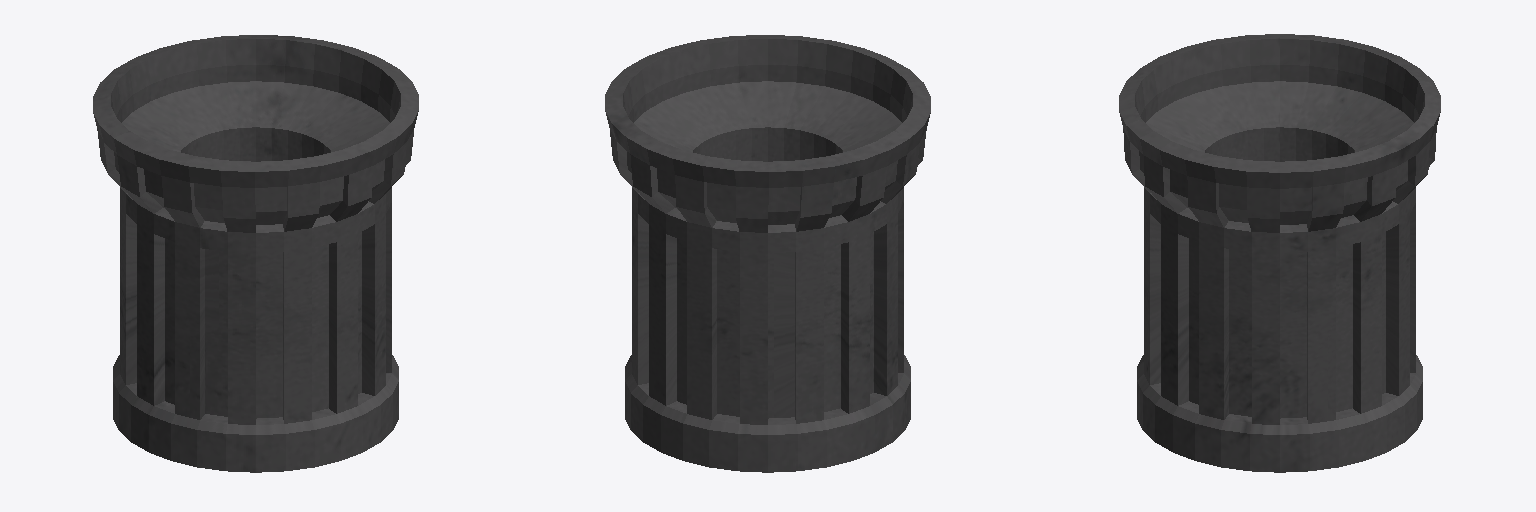
3 renders of one model, left to right at view 1: azimuth 30°, elevation 25°; view 2: azimuth 150°, elevation 25°; view 3: azimuth 270°, elevation 25°, orthographic.
Parts seen in each view (by area): view 1: lixeira_pCylinder1; view 2: lixeira_pCylinder1; view 3: lixeira_pCylinder1.
Part boxes in pixels (bbox=[...]): lixeira_pCylinder1: bbox=[93, 35, 418, 472]; lixeira_pCylinder1: bbox=[605, 35, 930, 472]; lixeira_pCylinder1: bbox=[1119, 34, 1440, 472].
Size of the model in its own units: 0.1208 by 0.1261 by 0.1182.
Materials: 1 (1 with a texture image).